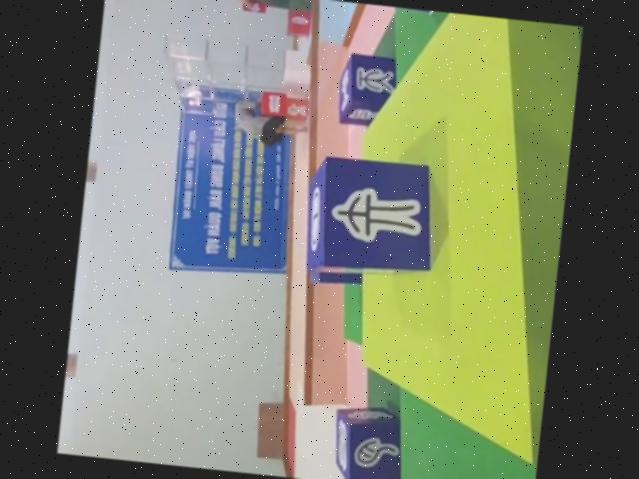R2 Fake Blue: (299, 153, 443, 291), (330, 403, 410, 479), (335, 49, 400, 128)
